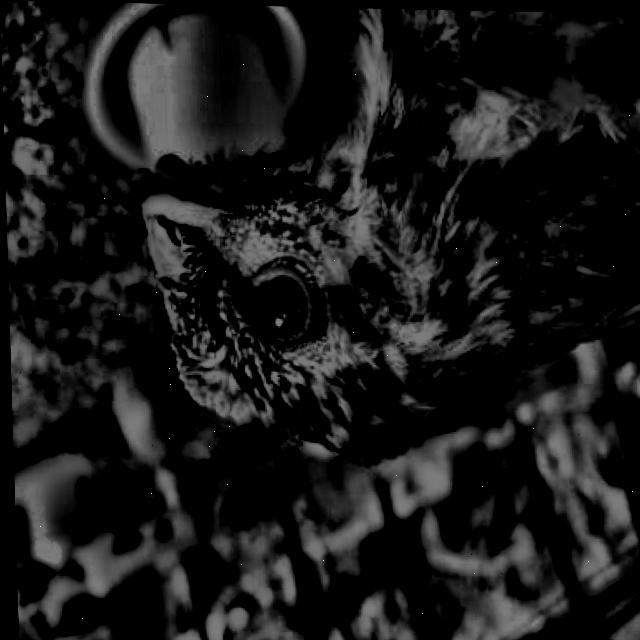Healthy: (227, 244, 348, 352)
